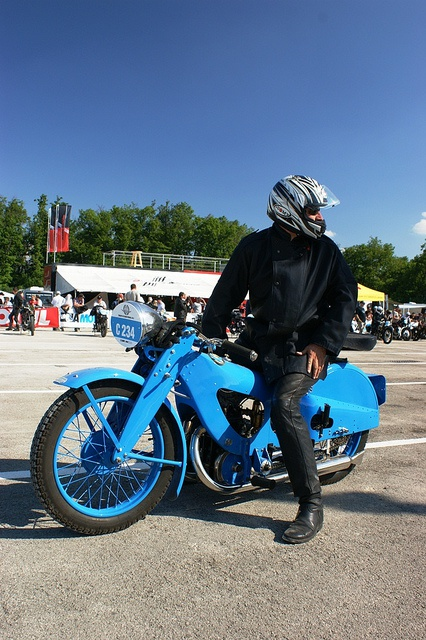non-vehicle: (28, 301, 379, 532), (365, 319, 394, 344)
